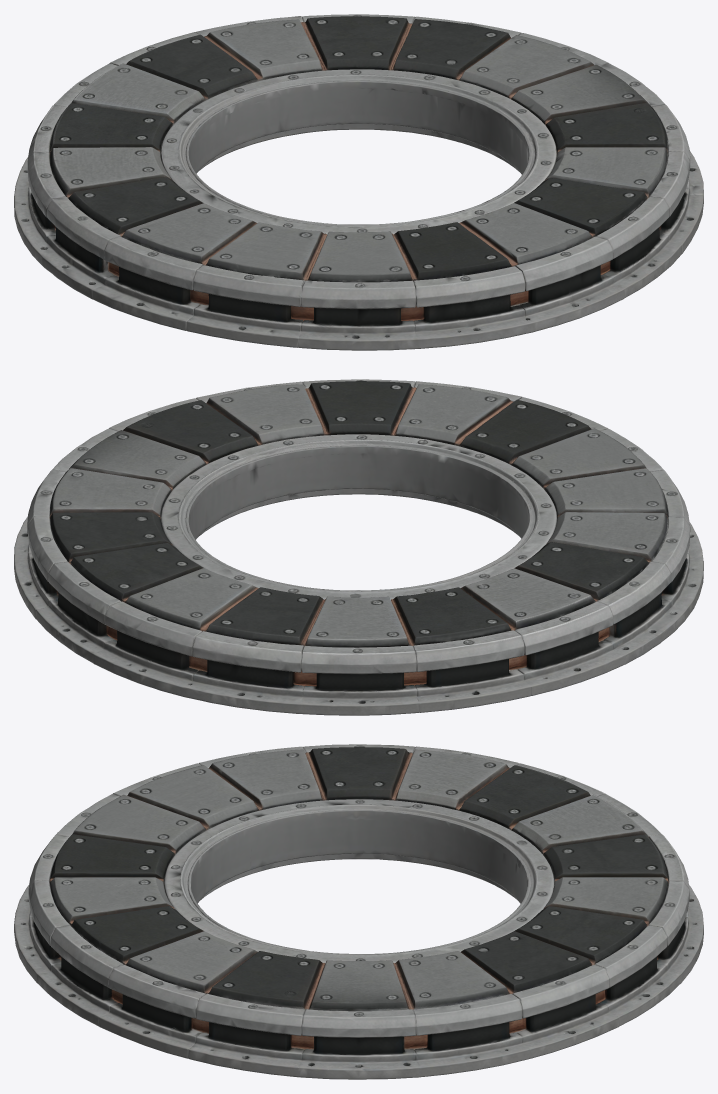
The model's file is crown-h31-pbr4k.glb.
The picture shows the model from 3 angles, top to bottom: view 1: azimuth 30°, elevation 25°; view 2: azimuth 150°, elevation 25°; view 3: azimuth 270°, elevation 25°; orthographic projection.
Parts seen in each view (by area): view 1: tripo_node_6583b386-936f-416a-af39-baf2c1f0d519; view 2: tripo_node_6583b386-936f-416a-af39-baf2c1f0d519; view 3: tripo_node_6583b386-936f-416a-af39-baf2c1f0d519.
Boxes of the visible parts, x1=… form: tripo_node_6583b386-936f-416a-af39-baf2c1f0d519: x1=14, y1=14, x2=703, y2=350; tripo_node_6583b386-936f-416a-af39-baf2c1f0d519: x1=14, y1=379, x2=703, y2=715; tripo_node_6583b386-936f-416a-af39-baf2c1f0d519: x1=14, y1=744, x2=703, y2=1079.
Size of the model in its own units: 0.9792 by 0.1003 by 0.9785.
1 material, 1 textured.
